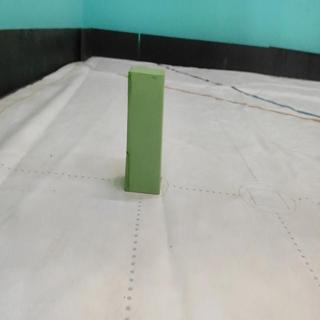greenbox: (123, 63, 166, 195)
